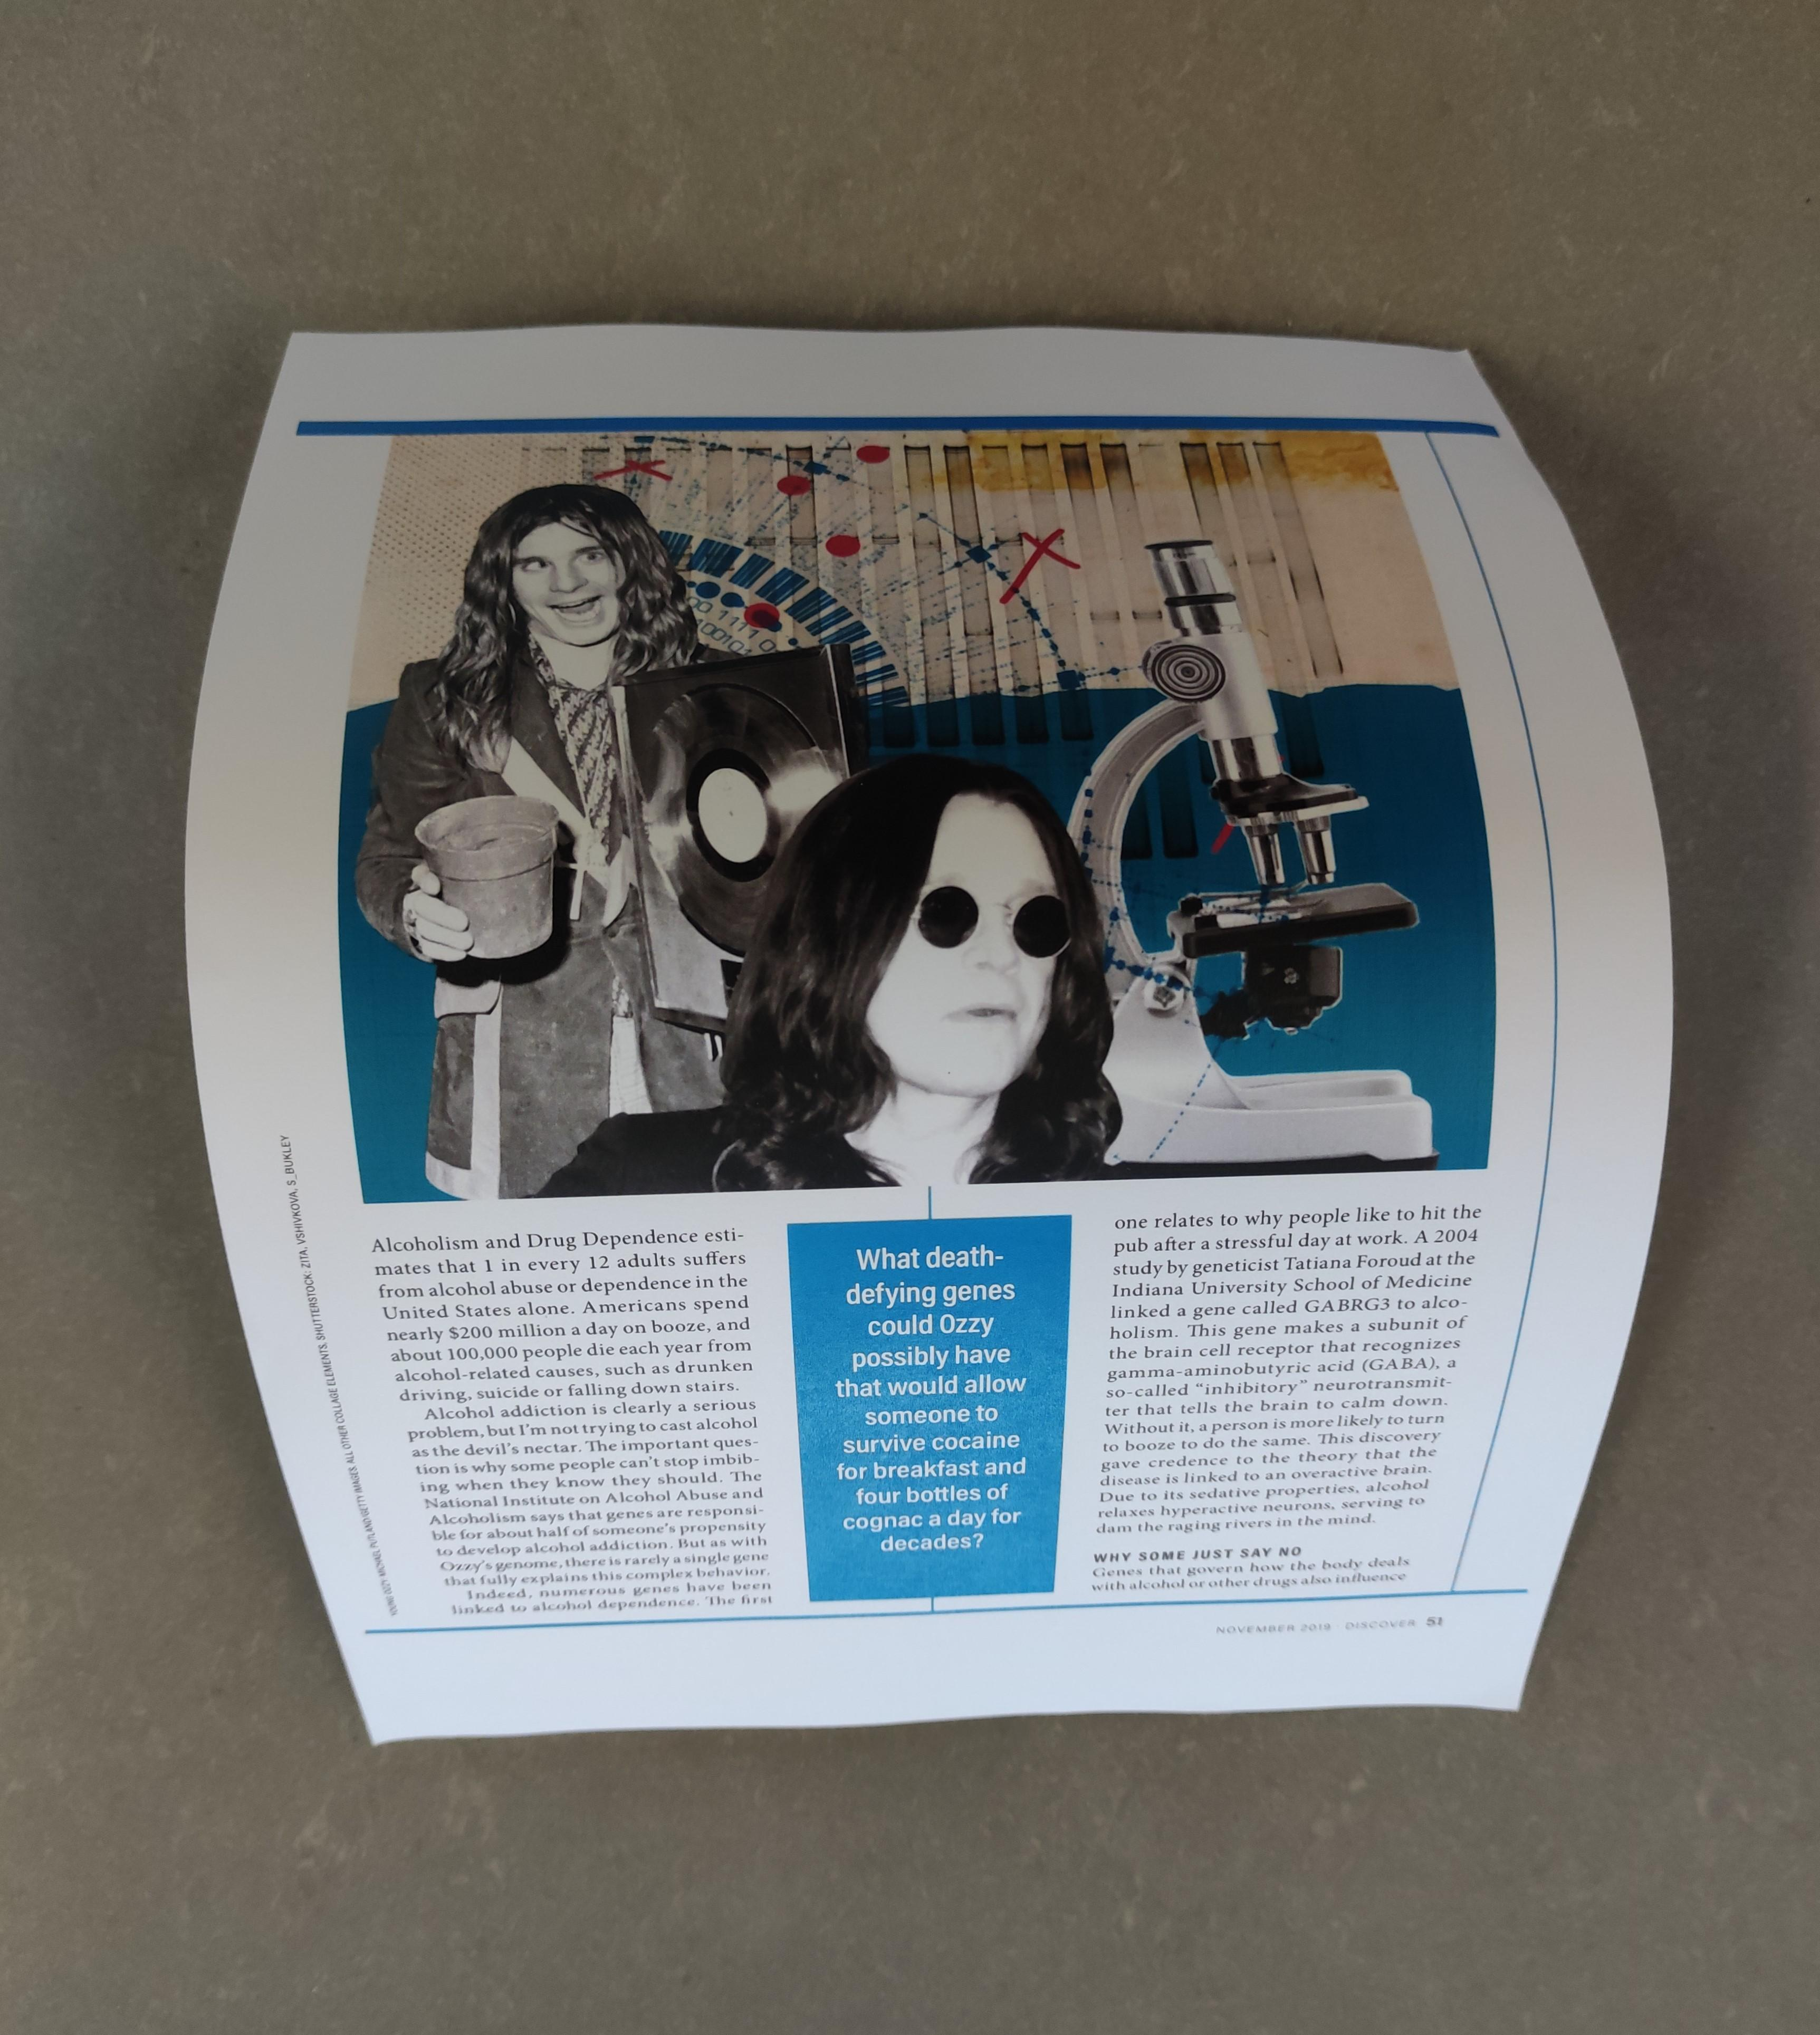paper: (118, 105, 1820, 2033)
